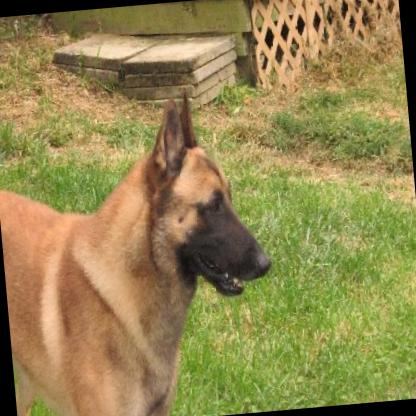malinois: (0, 82, 282, 416)
